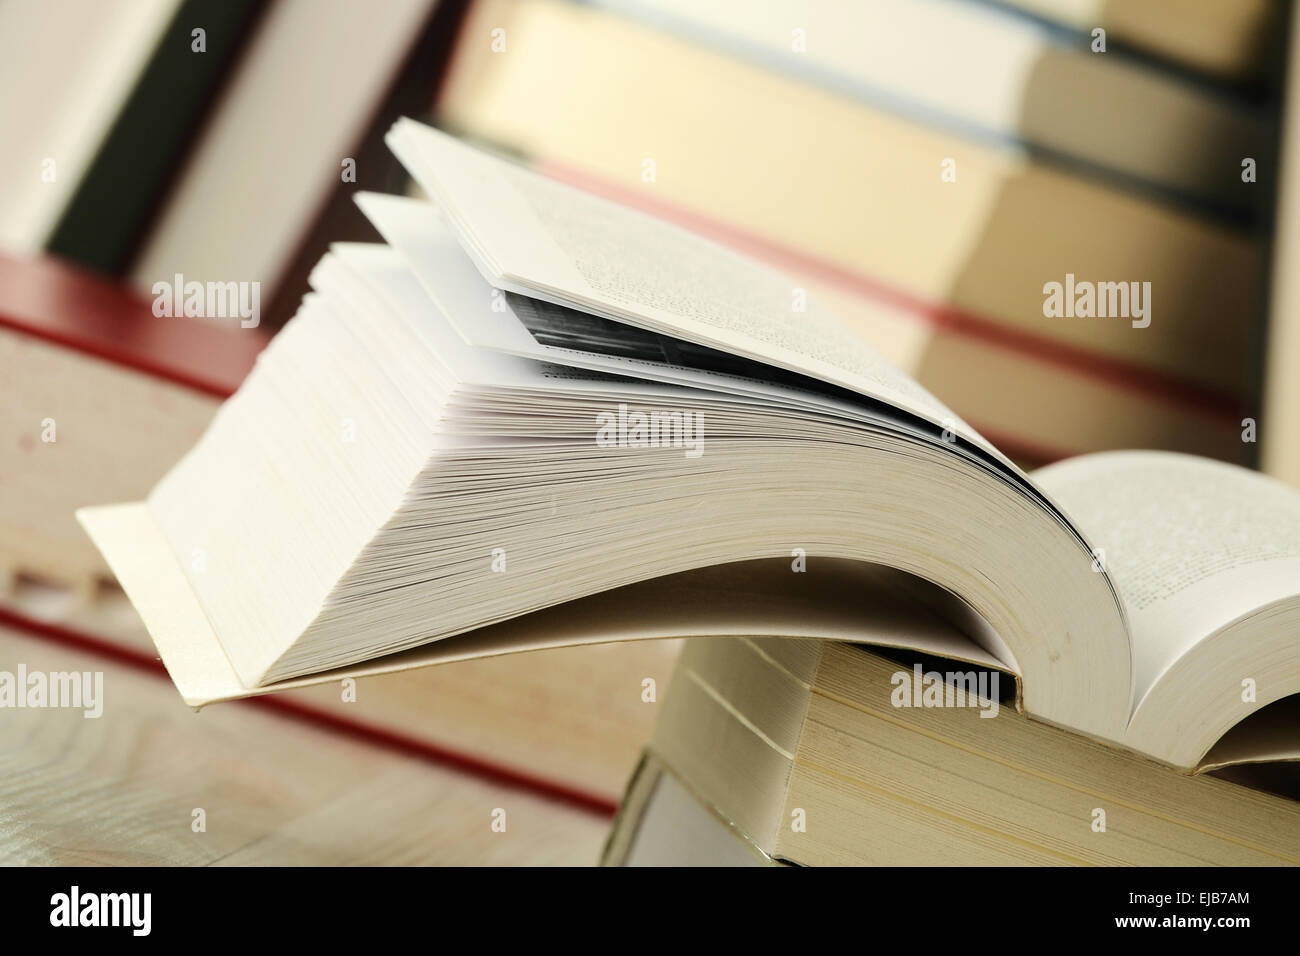book: (55, 34, 1300, 812)
